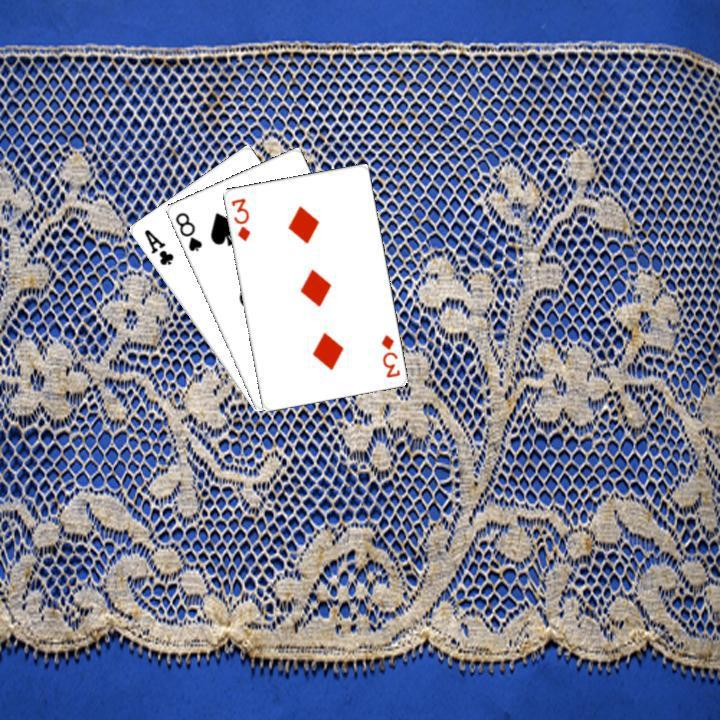3: (226, 193, 252, 243), (377, 330, 402, 379)
8: (170, 208, 204, 253)
A: (139, 224, 176, 267)
